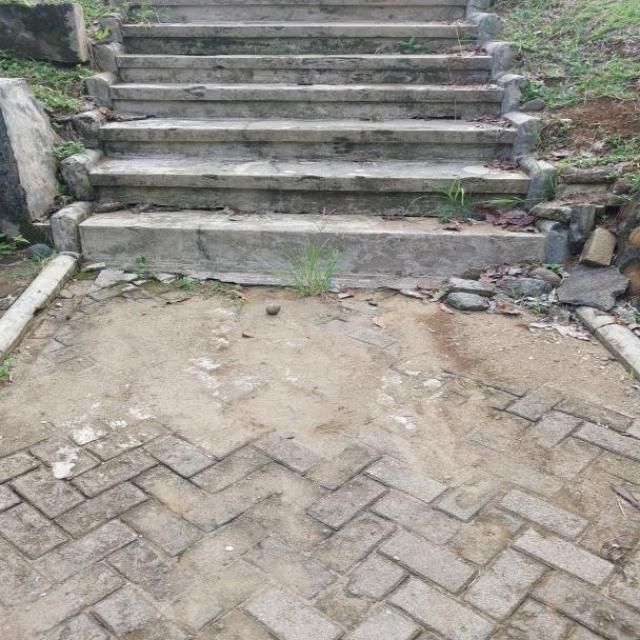stairs ahead at: (85, 26, 566, 277)
